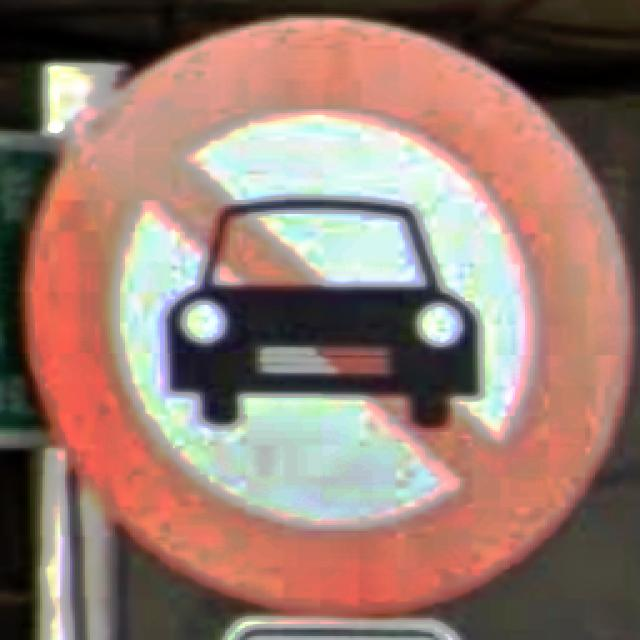nocar: (22, 16, 640, 616)
